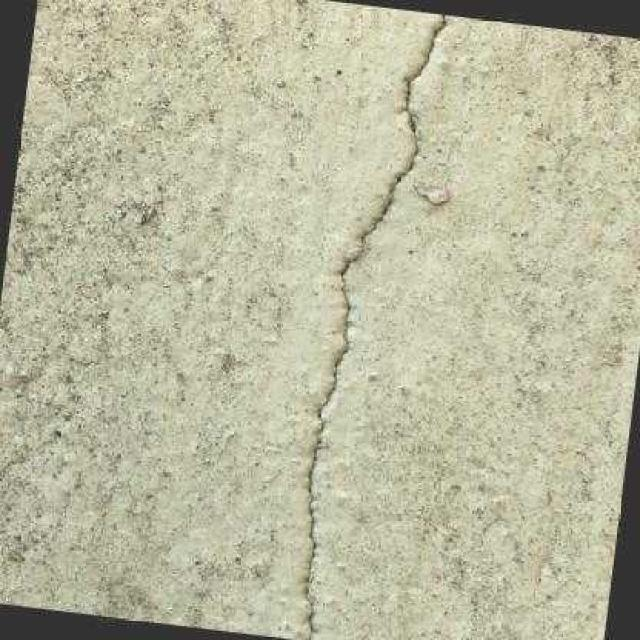D00: (305, 13, 446, 640)
